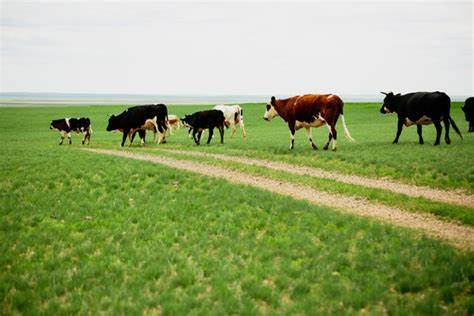MilkCow: (260, 93, 356, 151), (377, 91, 463, 144), (99, 104, 169, 145), (44, 111, 96, 146), (177, 110, 224, 143), (211, 100, 247, 140)
